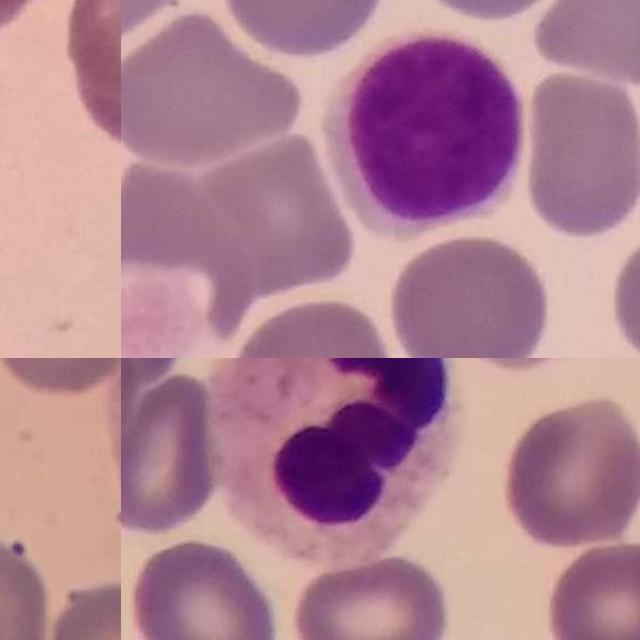Lymphocyte: (327, 28, 527, 244)
Neutrophil: (208, 358, 463, 561)
